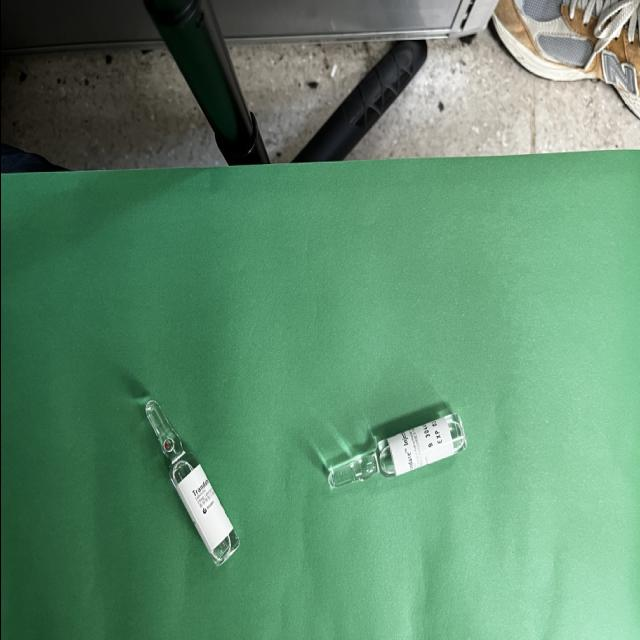Ampoules: (144, 401, 238, 565), (326, 413, 466, 489)
